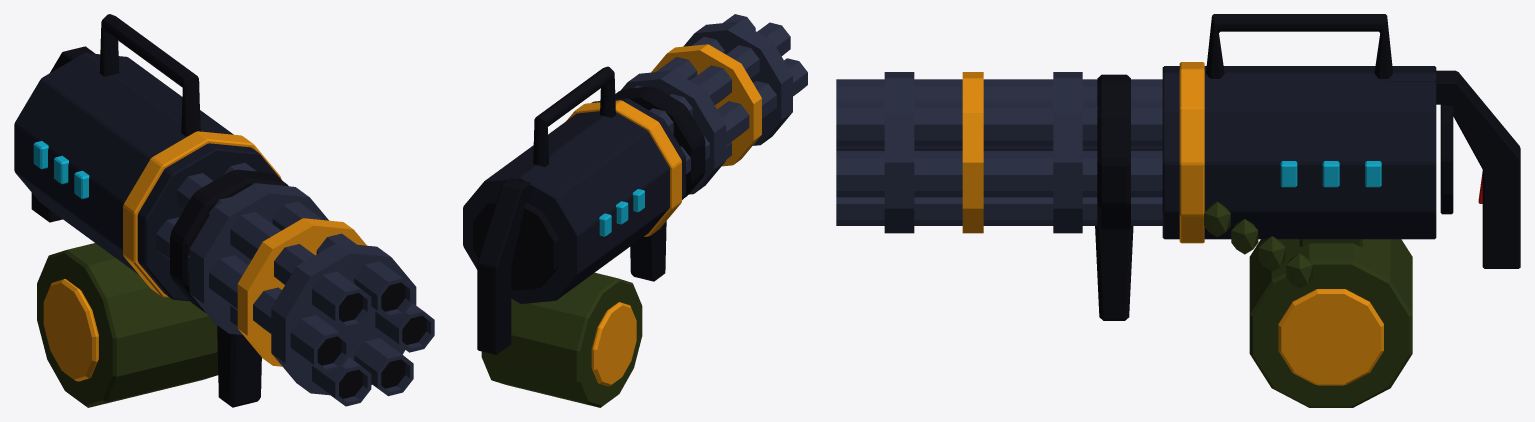
The model's file is myw_grenadegatling.obj.
3 views of the same model, side by side, from view 1: azimuth 30°, elevation 25°; view 2: azimuth 150°, elevation 25°; view 3: azimuth 270°, elevation 25° (orthographic). The views are drawn at different scales.
Parts seen in each view (by area): view 1: Barrels, Body, Drum, Grip; view 2: Body, Barrels, Drum, Grip; view 3: Body, Barrels, Drum, Grip, Grenades.
Boxes of the visible parts, x1,y1,x2,y2 form: Barrels: (156,162,434,406); Body: (14,14,282,301); Drum: (37,243,218,407); Grip: (170,169,288,407); Body: (463,66,685,354); Barrels: (621,14,807,194); Drum: (481,272,642,407); Grip: (615,86,705,281); Body: (1162,14,1520,268); Barrels: (836,72,1162,233); Drum: (1249,239,1412,407); Grip: (1095,74,1133,320); Grenades: (1204,202,1312,288).
Size of the model in its own units: 0.9371 by 1.91 by 3.25.
